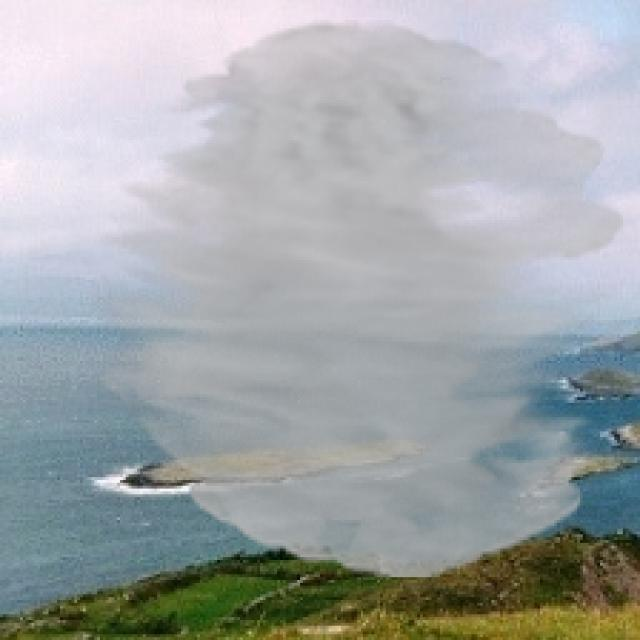smoke: (91, 20, 623, 577)
